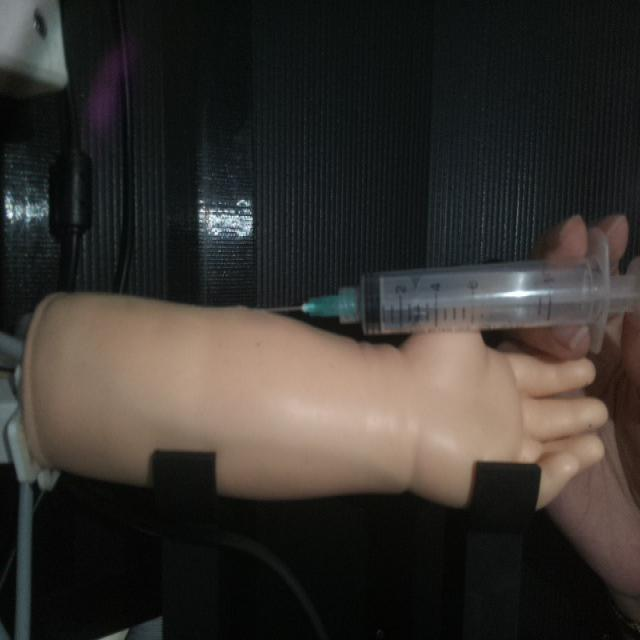Outside: (264, 239, 637, 345)
